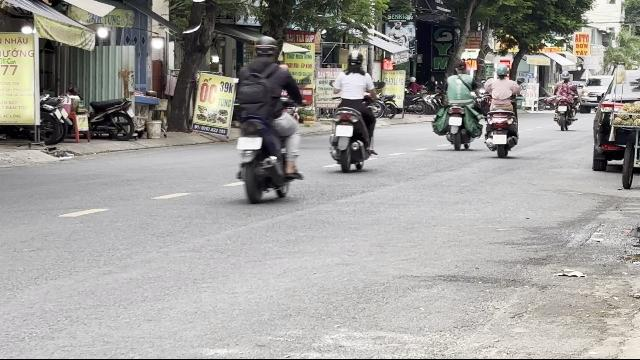helmet: (252, 35, 280, 61), (346, 50, 362, 70), (495, 63, 509, 78)
licenseplate: (238, 137, 262, 149), (335, 125, 353, 137), (493, 134, 507, 144)
motorcyclist: (230, 35, 304, 203), (327, 49, 378, 172), (482, 63, 522, 157)
